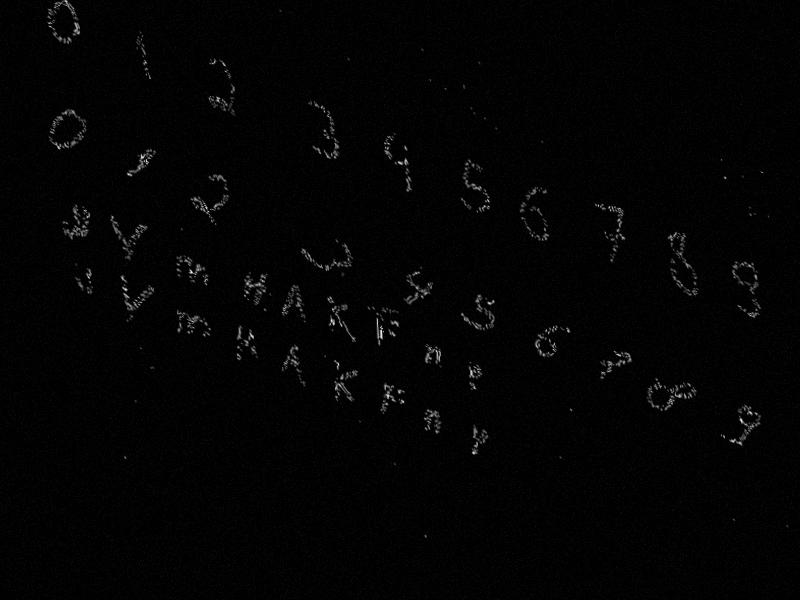0: (44, 93, 93, 166), (42, 0, 84, 53)
1: (117, 129, 162, 192), (128, 23, 155, 84)
2: (185, 160, 234, 236), (201, 49, 242, 124)
3: (297, 219, 357, 287), (302, 93, 344, 167)
4: (378, 125, 416, 200), (395, 256, 439, 317)
5: (453, 152, 494, 223), (456, 283, 500, 339)
6: (514, 173, 555, 251), (530, 311, 575, 373)
7: (588, 192, 632, 273), (593, 336, 635, 396)
8: (640, 352, 700, 432), (662, 222, 703, 305)
9: (713, 389, 767, 464), (727, 250, 765, 327)
A: (279, 337, 307, 391), (279, 276, 308, 328)
F: (377, 377, 409, 428), (373, 308, 403, 360)
H: (241, 261, 272, 315), (233, 319, 259, 369)
V: (115, 268, 160, 338), (105, 208, 152, 272)
k: (322, 291, 358, 347), (329, 354, 363, 413)
m: (170, 248, 213, 297), (173, 303, 215, 351)
n: (420, 403, 443, 440), (422, 338, 444, 375)
p: (468, 420, 490, 465), (465, 357, 486, 399)
u: (53, 191, 97, 257), (69, 256, 99, 301)
